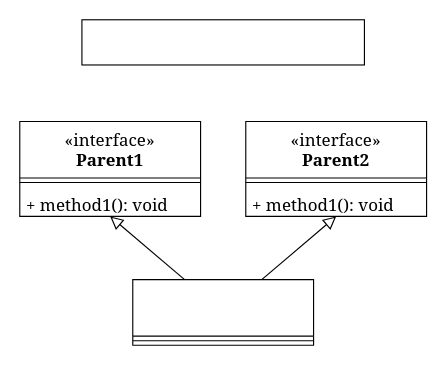
Some shapes in this 446 by 365 pixel diagram are drawn without their labels. Here are the shapes that lost their labels. From the top down, the box of each, then its label:
(81, 19, 364, 65): Multiple Inheritance
(132, 279, 314, 345): «interface » Child
